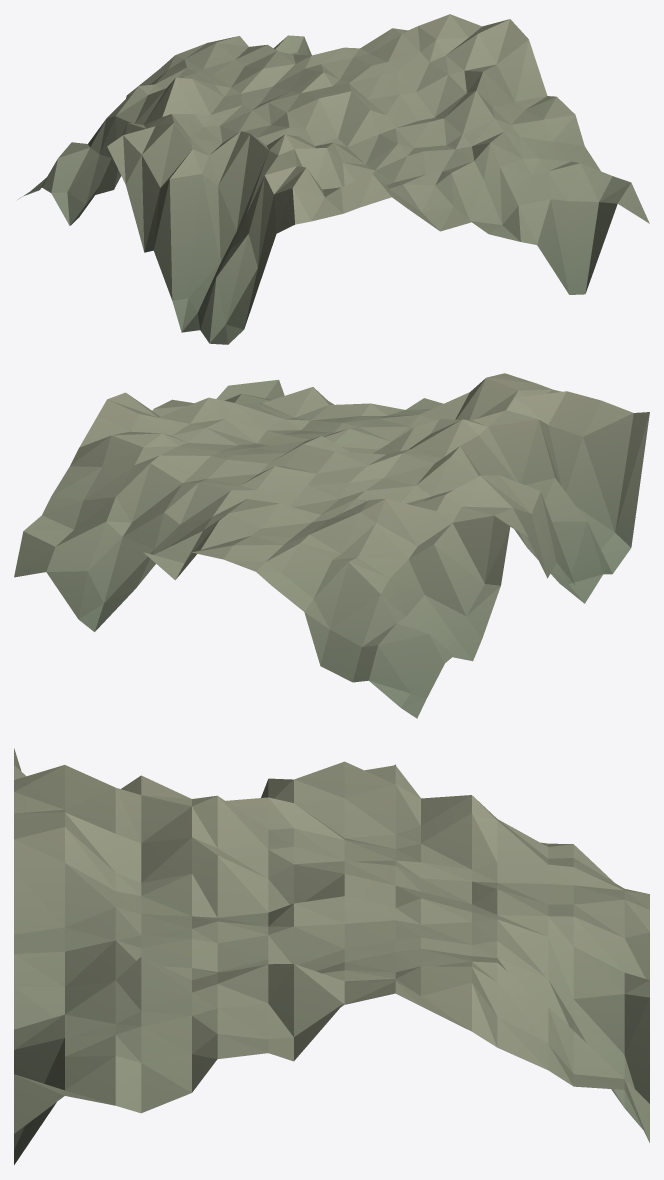
File: tile_2_2.glb
3 views of the same model, one above another, from view 1: azimuth 30°, elevation 25°; view 2: azimuth 150°, elevation 25°; view 3: azimuth 270°, elevation 25° (orthographic). The views are drawn at different scales.
Visible parts, largest first — view 1: geometry_0; view 2: geometry_0; view 3: geometry_0.
Boxes of the visible parts, x1,y1,x2,y2 form: geometry_0: (18,14,649,344); geometry_0: (14,373,649,718); geometry_0: (14,748,649,1164).
Bounding box in the file's own units: 123 × 47.61 × 123.
